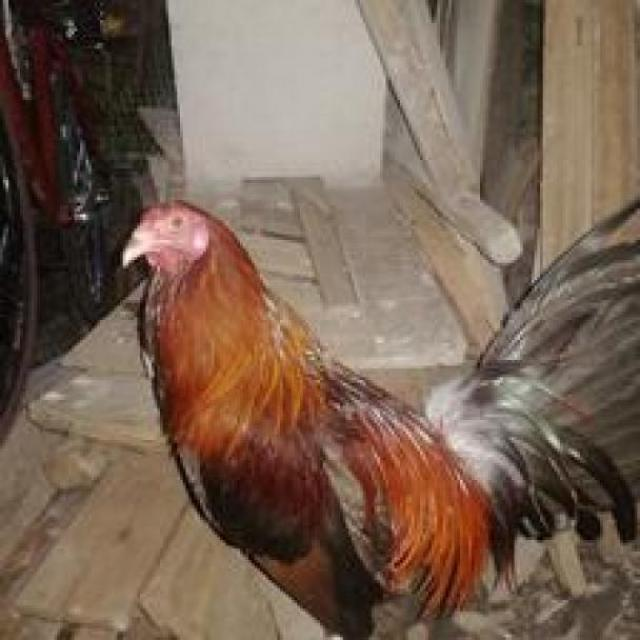Chicken: (110, 175, 640, 618)
